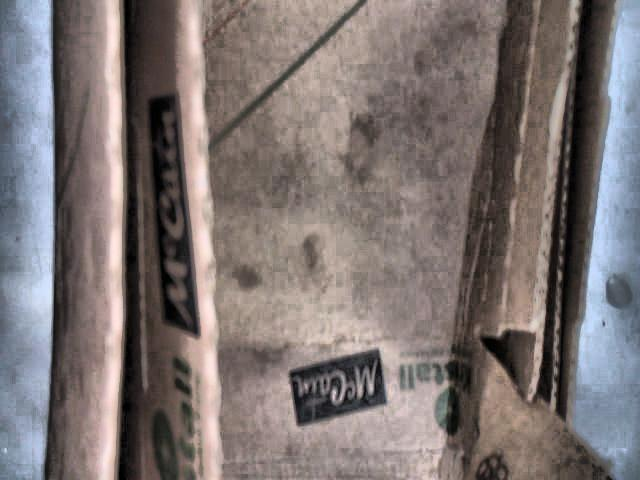Paper: (42, 0, 622, 480)
